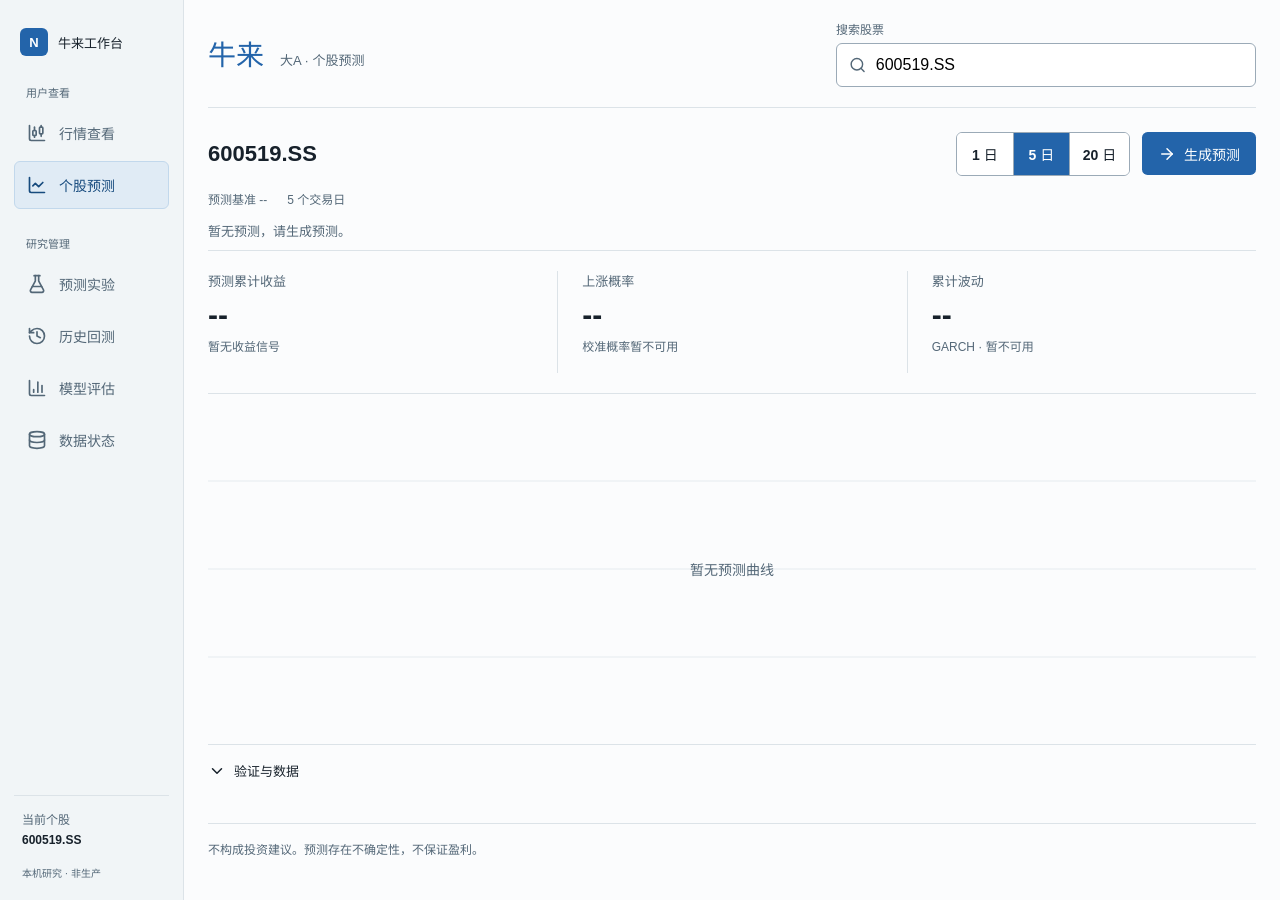
Test: single-stock prediction workspace at the HTTP boundary › cancels a pending job via DELETE and never treats it as a completed result
Click the button "生成预测". click: coordinates (1199, 154)
box: [1142,132,1256,175]
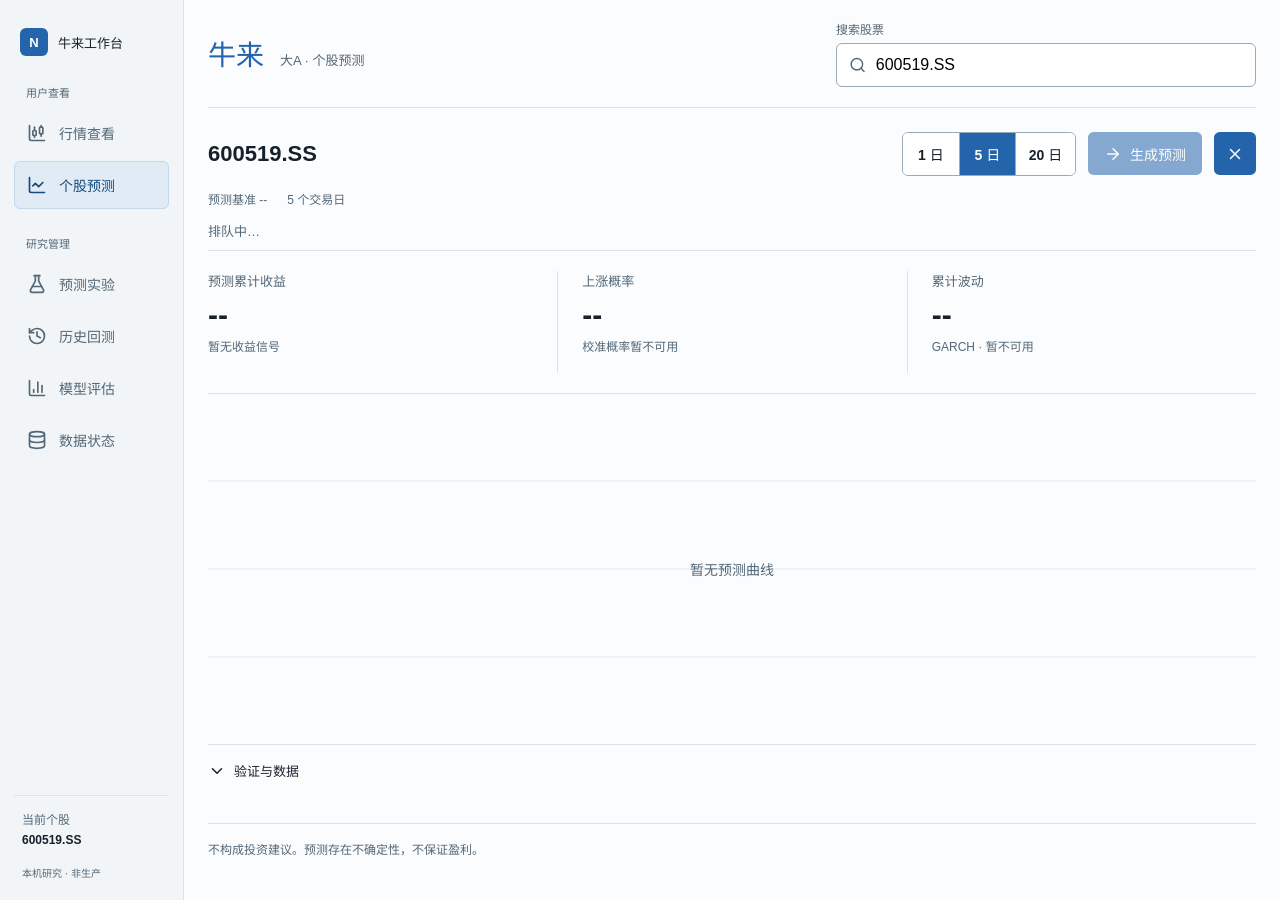
Click the button named "取消任务". click: coordinates (1235, 154)
box: [1214,132,1256,175]
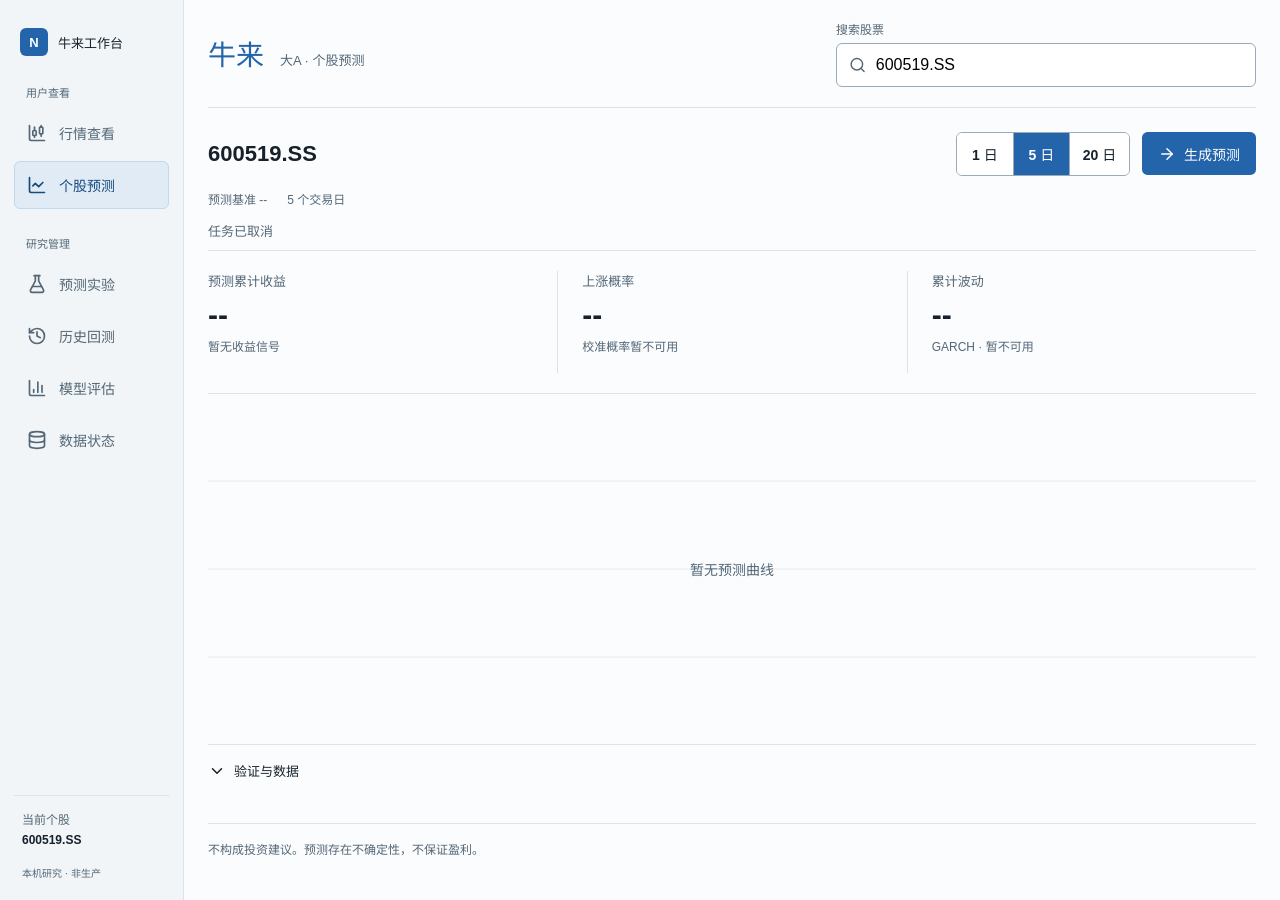
Expected: the text "--" below "预测累计收益" is shown, [208,298,228,331]
Expected: the text "任务已取消" is shown, [208,224,273,239]
Expected: the button "生成预测" is enabled, [1142,132,1256,175]
